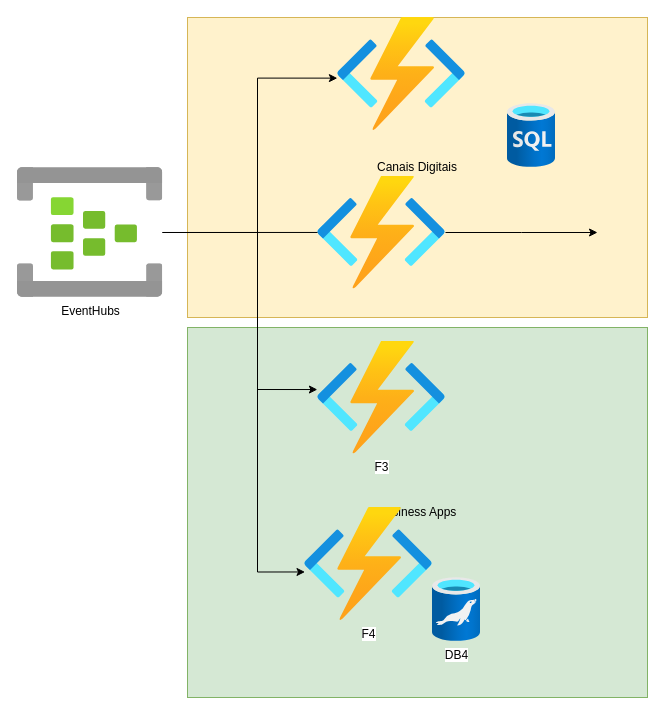
Some shapes in this 665 by 715 pixel diagram are drawn without their labels. The shapes that lost their labels are listed below. From the top down, each one's centre as x and y in pixels, then its label:
pixel 401 73: F1
pixel 531 135: DB1
pixel 381 232: F2
